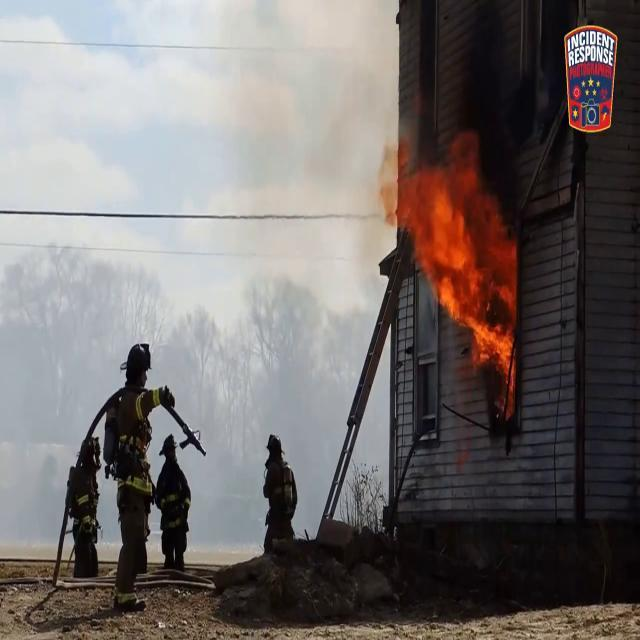Fire: (398, 138, 519, 398)
Smoke: (0, 4, 388, 488)
